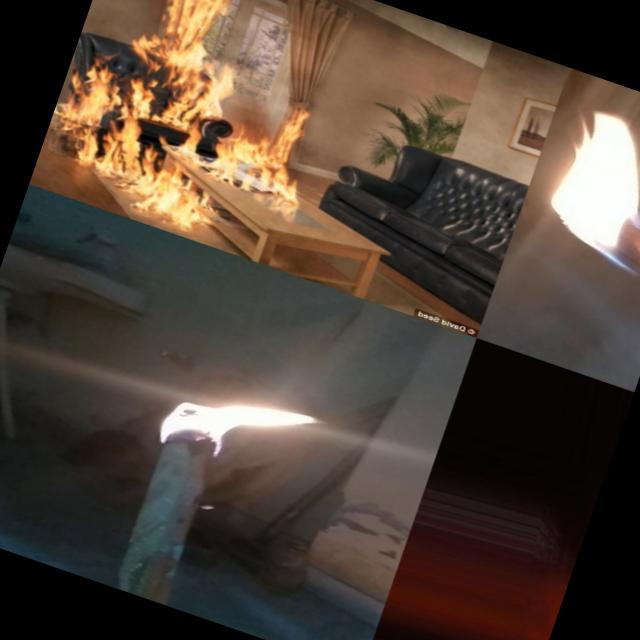fire: (32, 0, 359, 192), (142, 352, 358, 504), (524, 77, 640, 297)
smoke: (315, 0, 568, 220), (536, 570, 571, 640)
